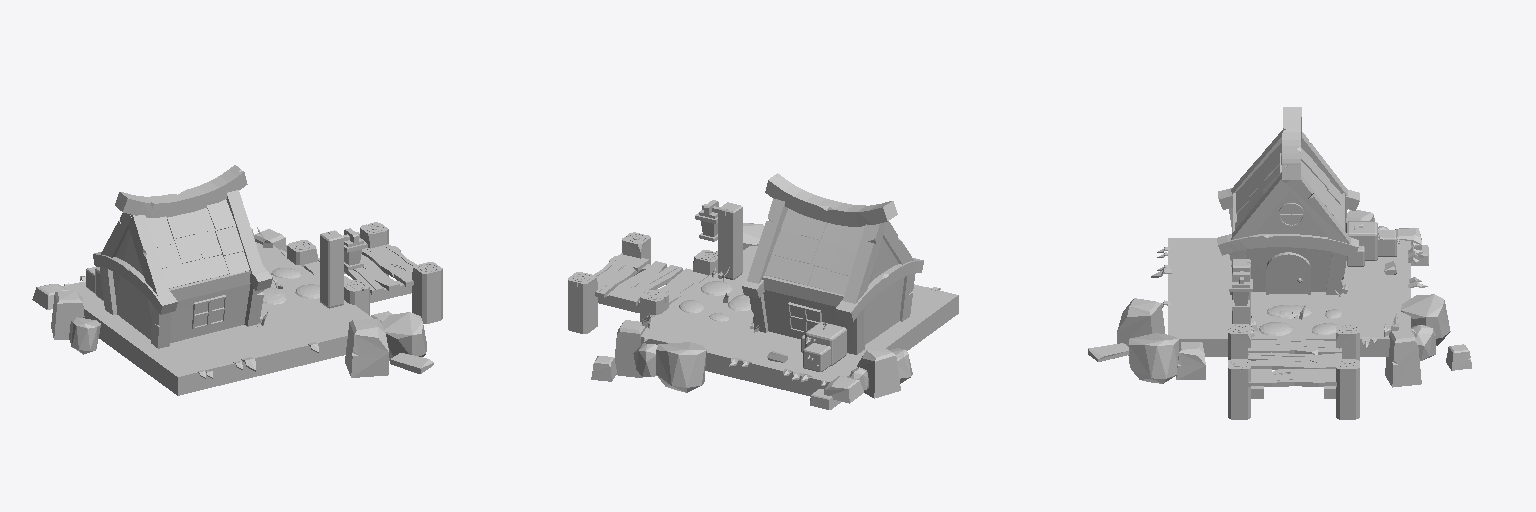
Rendered from House.obj.
3 views of the same model, side by side, from view 1: azimuth 30°, elevation 25°; view 2: azimuth 150°, elevation 25°; view 3: azimuth 270°, elevation 25° (orthographic).
Visible parts, largest first — view 1: Cubo.047; view 2: Cubo.047; view 3: Cubo.047.
Part boxes in pixels (left/top/right/bottom): Cubo.047: left=32, top=165, right=442, bottom=395; Cubo.047: left=568, top=173, right=958, bottom=409; Cubo.047: left=1088, top=107, right=1471, bottom=419.
Size of the model in its own units: 5.29 by 2.64 by 5.27.